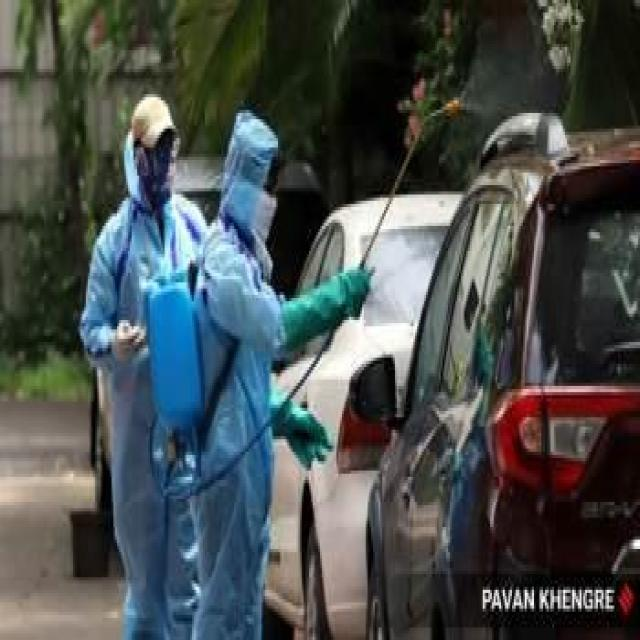Coverall: (73, 54, 225, 622), (194, 79, 309, 621)
Gloves: (256, 380, 331, 480), (269, 276, 377, 333)
